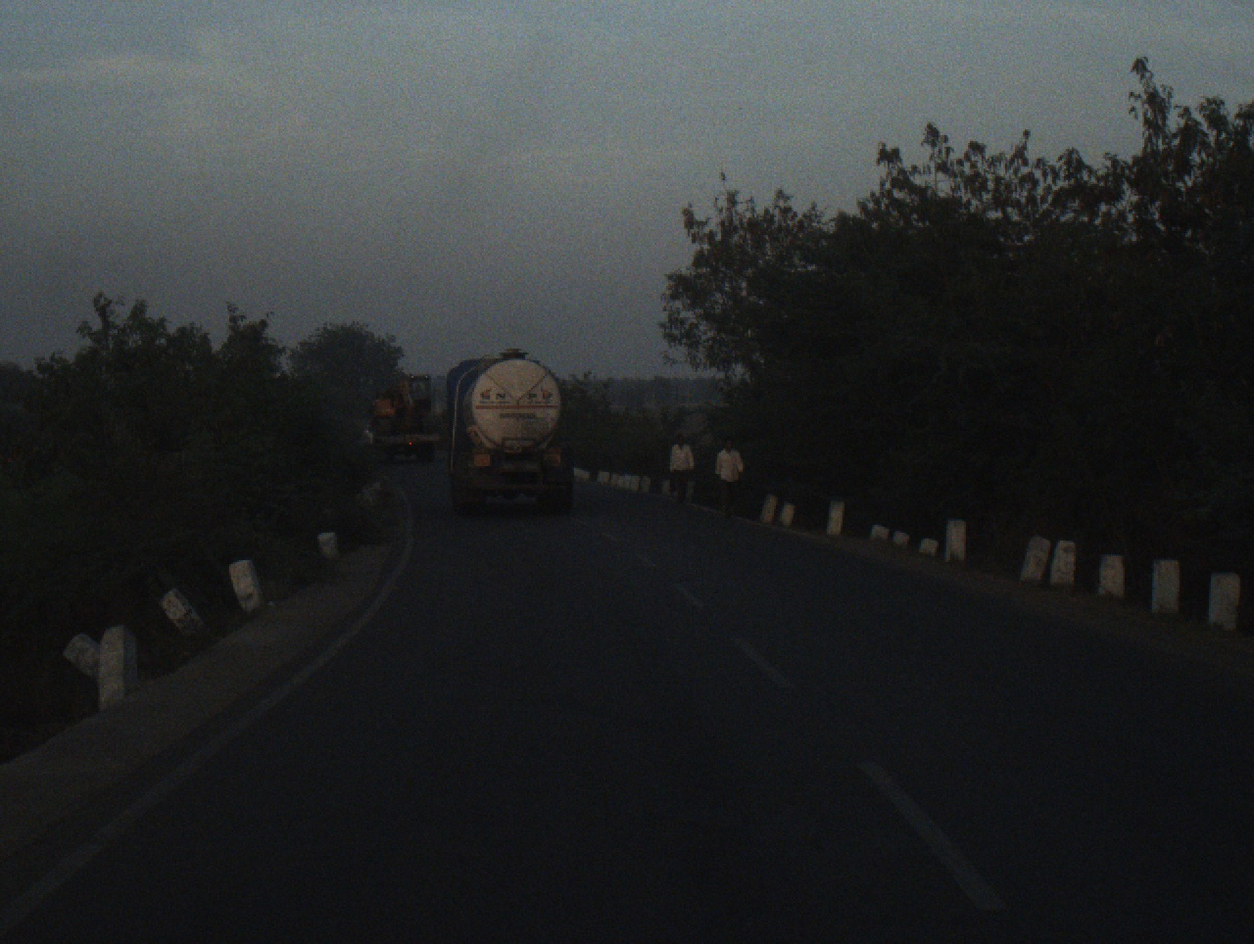person: (712, 433, 745, 518), (665, 431, 698, 515)
truck: (449, 345, 578, 529)
vehicle fallback: (360, 366, 442, 472)
